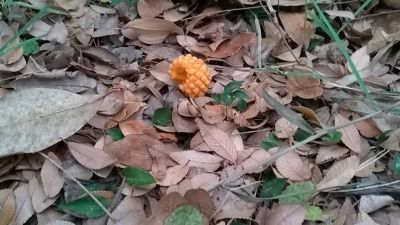eggs: (167, 53, 213, 97)
